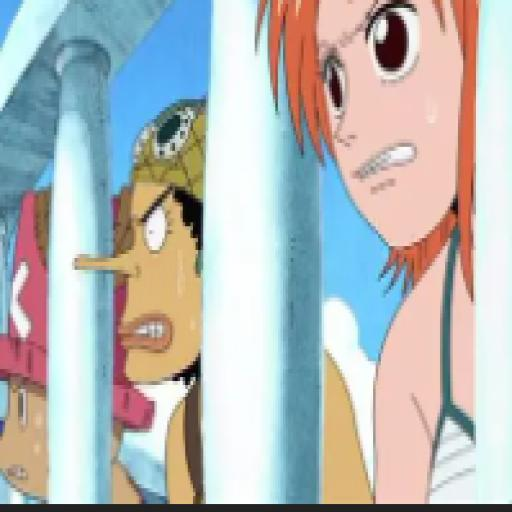Nami: (250, 0, 512, 512)
Usopp: (69, 95, 375, 512)
